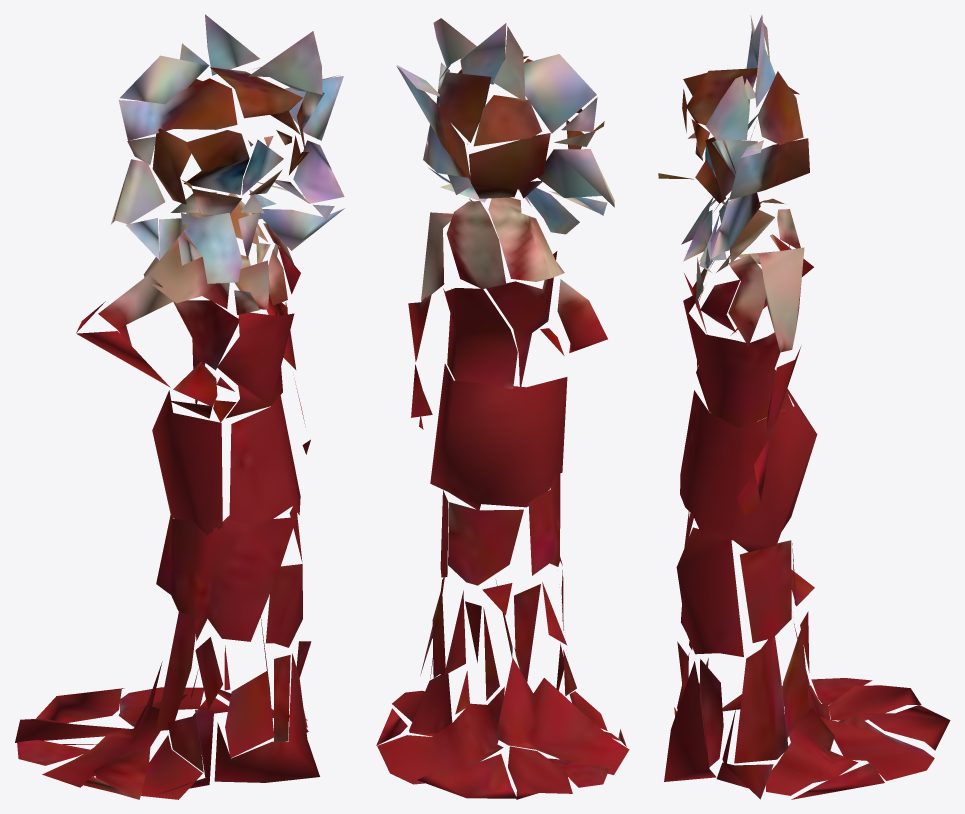
Rendered from cast_actress_far.glb.
The picture shows the model from 3 angles, left to right: view 1: azimuth 30°, elevation 25°; view 2: azimuth 150°, elevation 25°; view 3: azimuth 270°, elevation 25°; orthographic projection. The views are drawn at different scales.
Parts seen in each view (by area): view 1: tripo_node_058a3aab-caec-415b-b0f7-e44096bb8c06; view 2: tripo_node_058a3aab-caec-415b-b0f7-e44096bb8c06; view 3: tripo_node_058a3aab-caec-415b-b0f7-e44096bb8c06.
Part boxes in pixels (left/top/right/bottom): tripo_node_058a3aab-caec-415b-b0f7-e44096bb8c06: left=15, top=14, right=344, bottom=799; tripo_node_058a3aab-caec-415b-b0f7-e44096bb8c06: left=376, top=18, right=629, bottom=799; tripo_node_058a3aab-caec-415b-b0f7-e44096bb8c06: left=658, top=14, right=950, bottom=799.
Size of the model in its own units: 0.3762 by 0.99 by 0.3526.
Materials: 1 (1 with a texture image).
